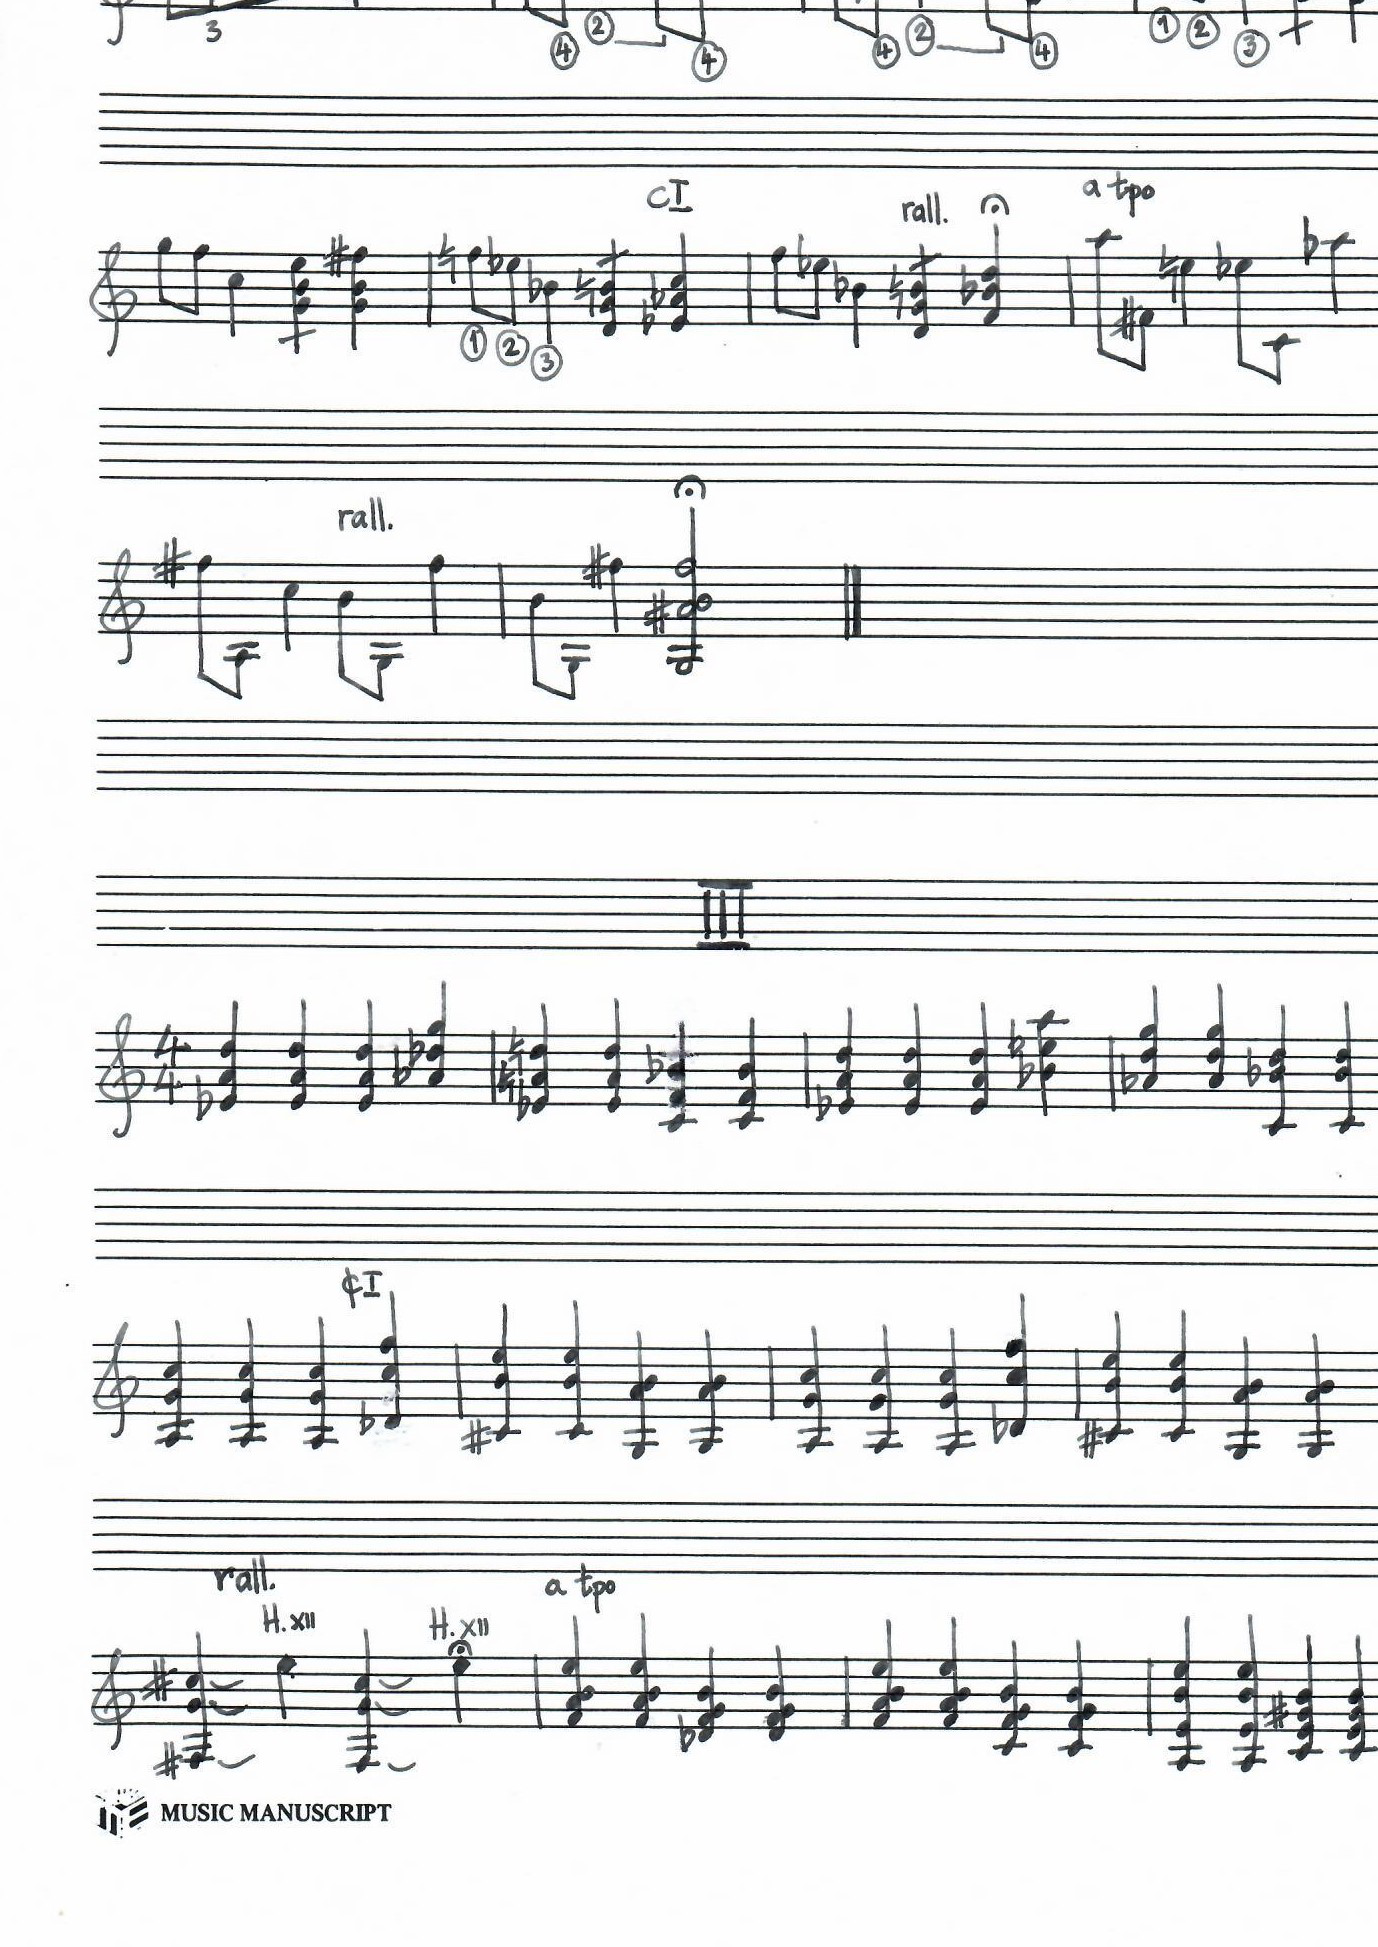4-4-Time: (148, 1024, 189, 1114), (495, 1021, 529, 1106)
Barline: (526, 1647, 549, 1738), (1101, 1032, 1121, 1118), (1059, 247, 1080, 332), (761, 1342, 781, 1424), (738, 244, 758, 329), (795, 1026, 814, 1109), (834, 1656, 855, 1729), (1066, 1346, 1086, 1422), (450, 1342, 468, 1419), (485, 1026, 501, 1108), (1142, 1656, 1159, 1738), (422, 246, 438, 326), (495, 558, 509, 643), (840, 561, 852, 641)
Beam: (191, 666, 251, 704), (1235, 358, 1292, 392), (333, 674, 391, 707), (1093, 347, 1151, 379), (465, 303, 522, 329), (526, 677, 583, 704), (770, 300, 825, 326), (155, 291, 201, 321)
Chord: (1168, 1616, 1206, 1776), (670, 508, 707, 674), (555, 1296, 597, 1443), (1236, 1612, 1271, 1782), (620, 1328, 664, 1462), (344, 1625, 382, 1779), (1223, 1336, 1268, 1462), (1296, 1330, 1339, 1460), (1329, 996, 1368, 1137), (1338, 1628, 1377, 1770), (1160, 1307, 1199, 1448), (688, 1327, 729, 1457), (937, 1324, 977, 1457), (796, 1325, 837, 1457), (993, 1635, 1033, 1764), (488, 1301, 523, 1443), (231, 1316, 268, 1452), (1262, 1000, 1297, 1140), (1099, 1307, 1135, 1446), (726, 1011, 767, 1133), (865, 1319, 901, 1457), (1002, 1287, 1033, 1442), (157, 1318, 192, 1452), (182, 1629, 215, 1776), (304, 1318, 339, 1454), (659, 1020, 699, 1135), (626, 1609, 662, 1737), (558, 1615, 597, 1732), (1290, 1634, 1324, 1767), (1031, 1003, 1069, 1120), (869, 1615, 907, 1735), (1063, 1640, 1098, 1764), (277, 250, 318, 355), (938, 1616, 972, 1735), (762, 1640, 799, 1749), (1202, 979, 1233, 1099), (380, 1285, 406, 1431), (693, 1641, 728, 1749), (1138, 978, 1168, 1094), (910, 239, 943, 341), (966, 1000, 995, 1118), (603, 994, 629, 1115), (600, 240, 631, 341), (901, 1003, 928, 1120), (353, 996, 379, 1118), (529, 999, 555, 1120), (834, 1006, 861, 1118), (668, 230, 696, 335), (980, 224, 1008, 329), (425, 979, 452, 1090), (218, 997, 242, 1115), (347, 242, 371, 353), (289, 996, 310, 1114)
Eighth-Note: (189, 549, 221, 686), (1086, 227, 1119, 356), (365, 637, 406, 708), (331, 581, 359, 683), (225, 637, 262, 707), (1230, 256, 1253, 373), (523, 590, 547, 692), (561, 635, 591, 707), (1263, 332, 1300, 388), (186, 239, 210, 324), (151, 236, 177, 309), (504, 253, 528, 329), (1133, 300, 1157, 376), (765, 242, 786, 321), (808, 253, 831, 326), (462, 242, 483, 315)
Flat: (192, 1072, 216, 1123), (1299, 215, 1321, 268), (956, 259, 978, 309), (1119, 1053, 1139, 1099), (990, 1401, 1010, 1446), (644, 1044, 664, 1085), (1007, 1020, 1028, 1058), (832, 256, 849, 306), (392, 1044, 410, 1088), (795, 231, 811, 279), (485, 234, 504, 274), (676, 1713, 695, 1753), (814, 1079, 832, 1123), (1245, 1047, 1263, 1088), (356, 1398, 374, 1440), (526, 256, 541, 306), (406, 1029, 425, 1066), (1214, 240, 1232, 280), (650, 268, 665, 312), (516, 1076, 529, 1123), (1019, 1051, 1033, 1091), (641, 300, 655, 335)
G-Clef: (84, 239, 142, 359), (97, 543, 151, 669), (95, 1012, 149, 1139), (92, 1321, 143, 1439), (86, 1646, 140, 1752)
Natural: (1154, 242, 1183, 304), (884, 259, 908, 324), (573, 264, 598, 319), (437, 227, 459, 288), (506, 1023, 528, 1075)
Quarter-Note: (1318, 227, 1359, 318), (424, 555, 452, 640), (279, 578, 306, 654), (846, 279, 871, 356), (603, 555, 626, 637), (221, 265, 245, 341), (273, 1650, 297, 1722), (449, 1653, 473, 1725), (1178, 252, 1198, 329), (540, 276, 559, 344)
Sharp: (154, 537, 189, 590), (140, 1655, 177, 1705), (644, 587, 673, 640), (152, 1737, 185, 1782), (459, 1416, 492, 1460), (321, 233, 350, 276), (582, 544, 610, 589), (1263, 1691, 1292, 1734), (1116, 297, 1139, 344), (1075, 1419, 1104, 1458)
Tie-Slur: (374, 1698, 416, 1723), (209, 1697, 251, 1720), (218, 1755, 259, 1773), (376, 1674, 415, 1692), (383, 1756, 418, 1774), (207, 1676, 245, 1692)
